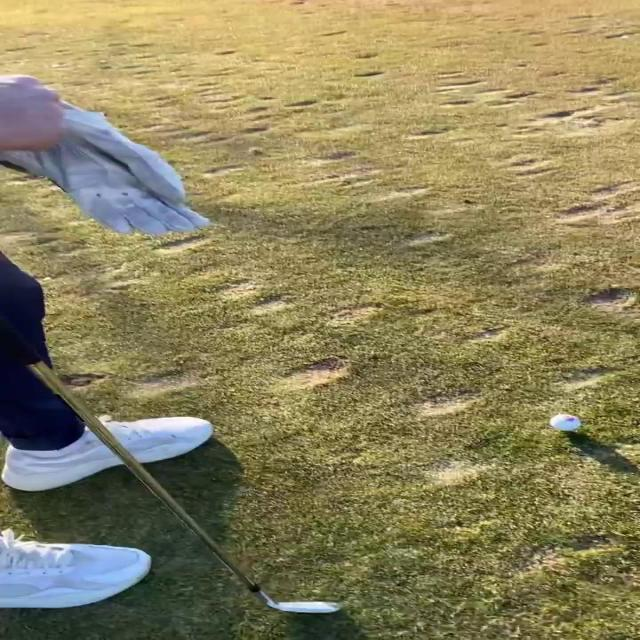ClubHead: (264, 598, 342, 616)
GolfBall: (552, 417, 586, 435)
